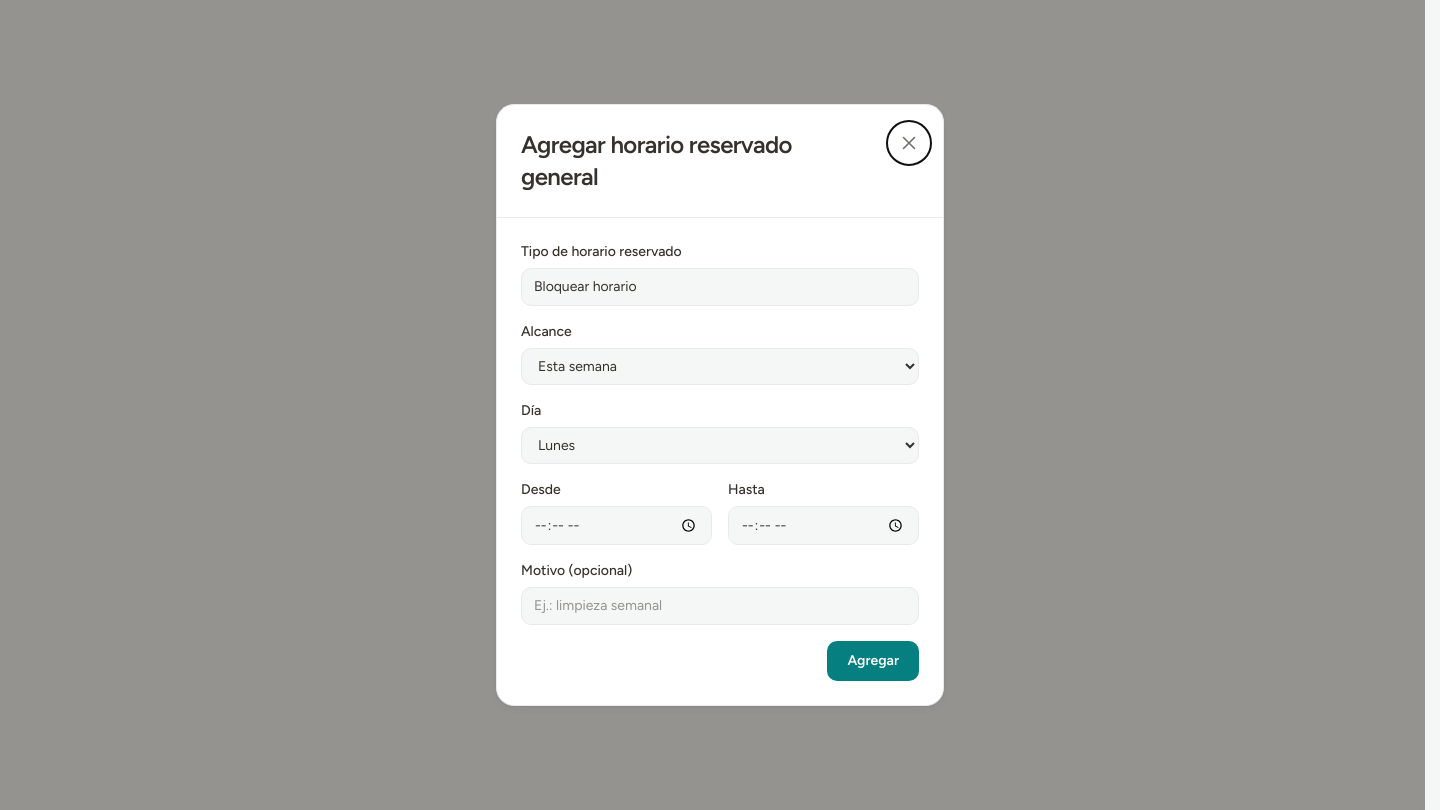
Scenario: AgregarReglaModal › muestra un error de validación si falta el horario
Click the button "Agregar" at (873, 661), box 827,641 -> 919,681
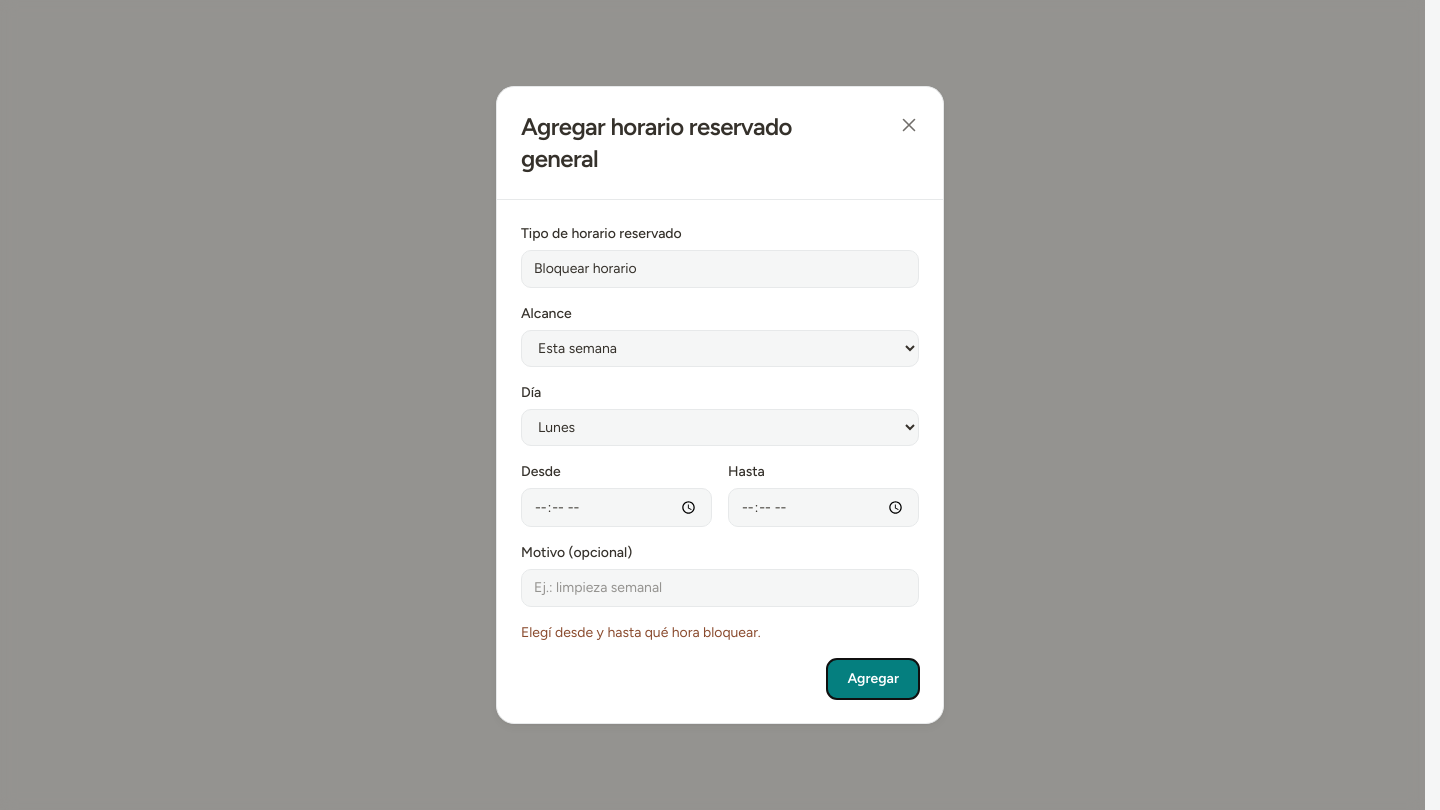
Check: the message reads "Elegí desde y hasta qué hora bloquear.", box 521,624 -> 761,641
